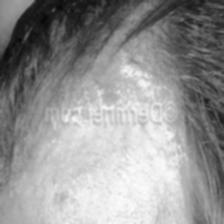Non-Cancerous Skin Condition: (69, 19, 193, 95), (0, 124, 35, 192)
